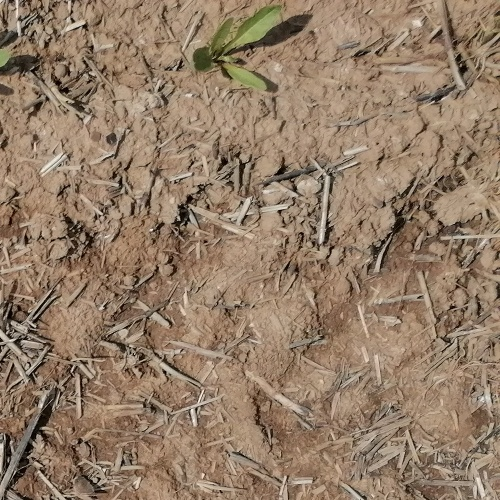beet: (191, 3, 284, 95)
